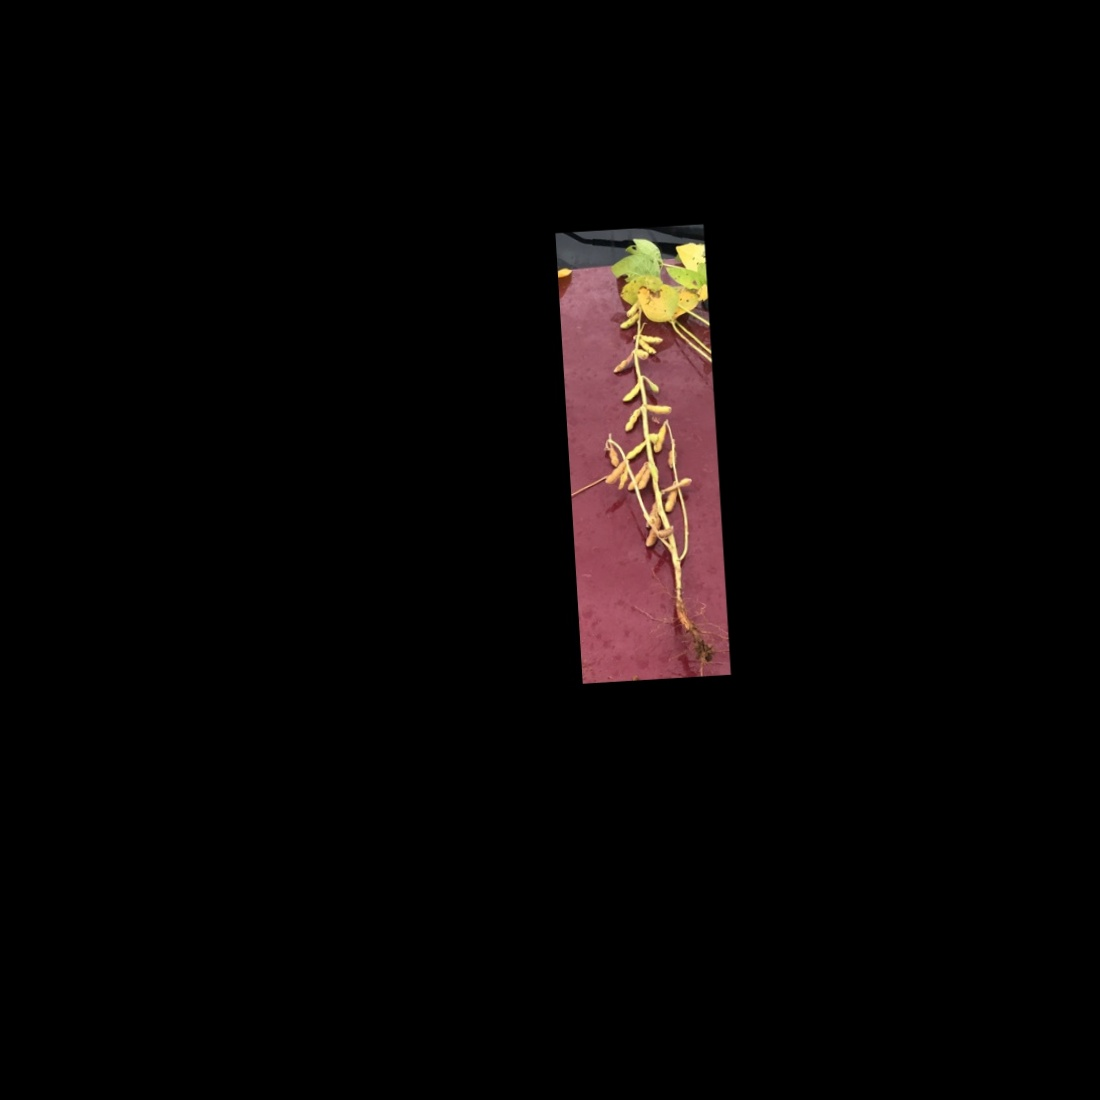pod: (618, 404, 644, 435), (618, 376, 643, 404), (620, 440, 648, 463), (602, 459, 627, 486), (646, 399, 680, 417), (616, 309, 643, 331), (634, 336, 660, 357), (634, 466, 652, 493), (637, 332, 663, 346)
soy: (562, 230, 721, 667)
